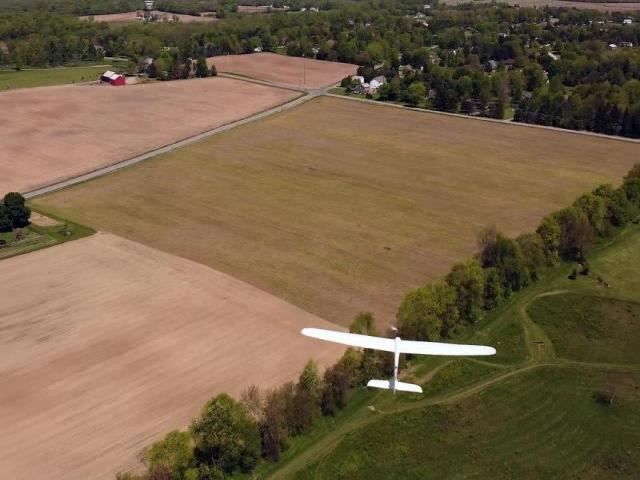hedef: (294, 306, 500, 404)
